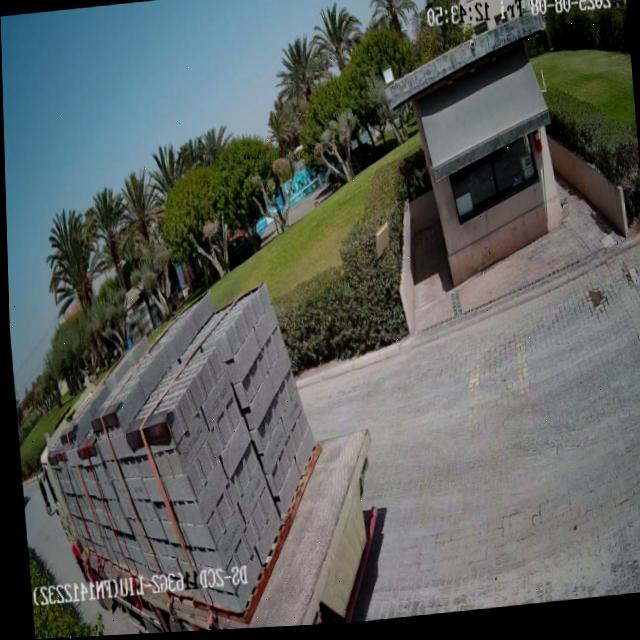bricks: (49, 283, 315, 606)
